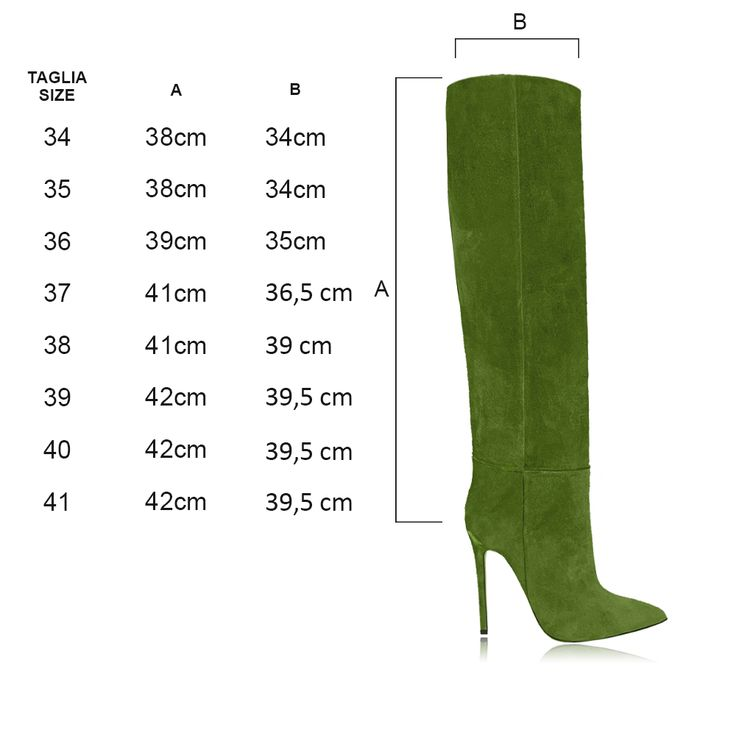gamuza: (445, 74, 667, 642)
